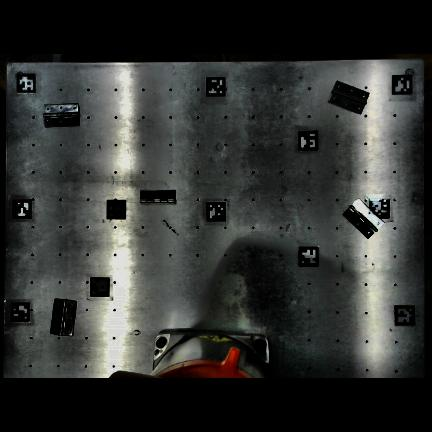hinge: (342, 200, 383, 238), (328, 81, 368, 114), (50, 299, 75, 336), (43, 104, 78, 127), (139, 190, 175, 203)
marker: (394, 304, 415, 325), (370, 198, 390, 219), (12, 198, 32, 219), (299, 246, 319, 266), (298, 130, 318, 150), (206, 75, 226, 95), (10, 300, 29, 321), (207, 201, 226, 222), (392, 75, 412, 94), (17, 73, 36, 93), (107, 200, 126, 219), (90, 278, 109, 296)
